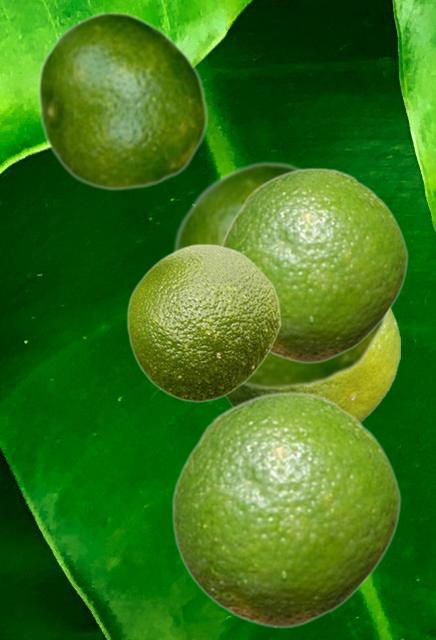calamansi: (171, 391, 400, 628), (171, 160, 390, 390), (221, 167, 407, 363), (36, 10, 208, 190), (126, 243, 280, 402), (224, 307, 399, 422)
